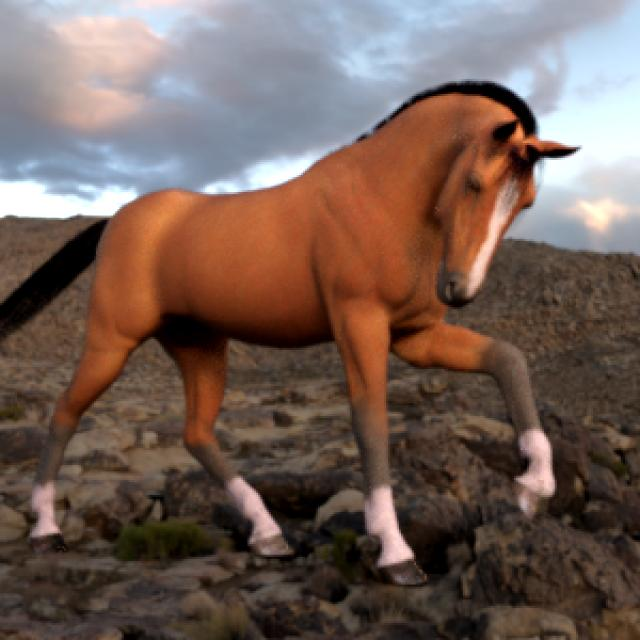horse: (0, 81, 579, 586)
